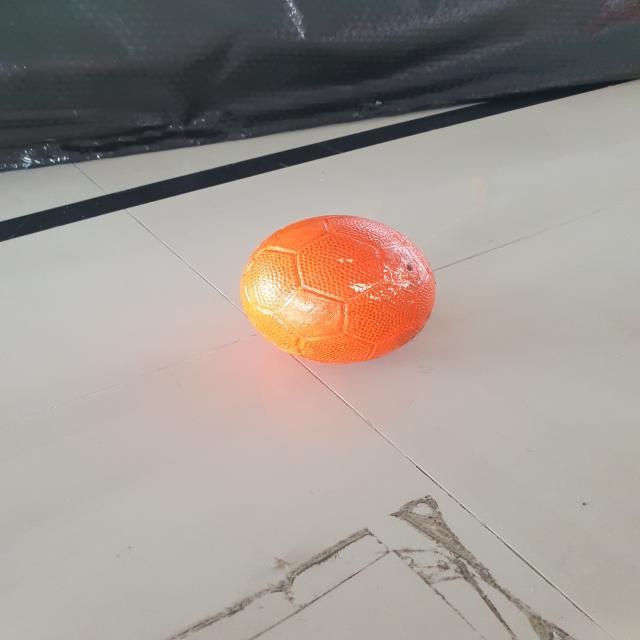bola: (244, 207, 439, 376)
